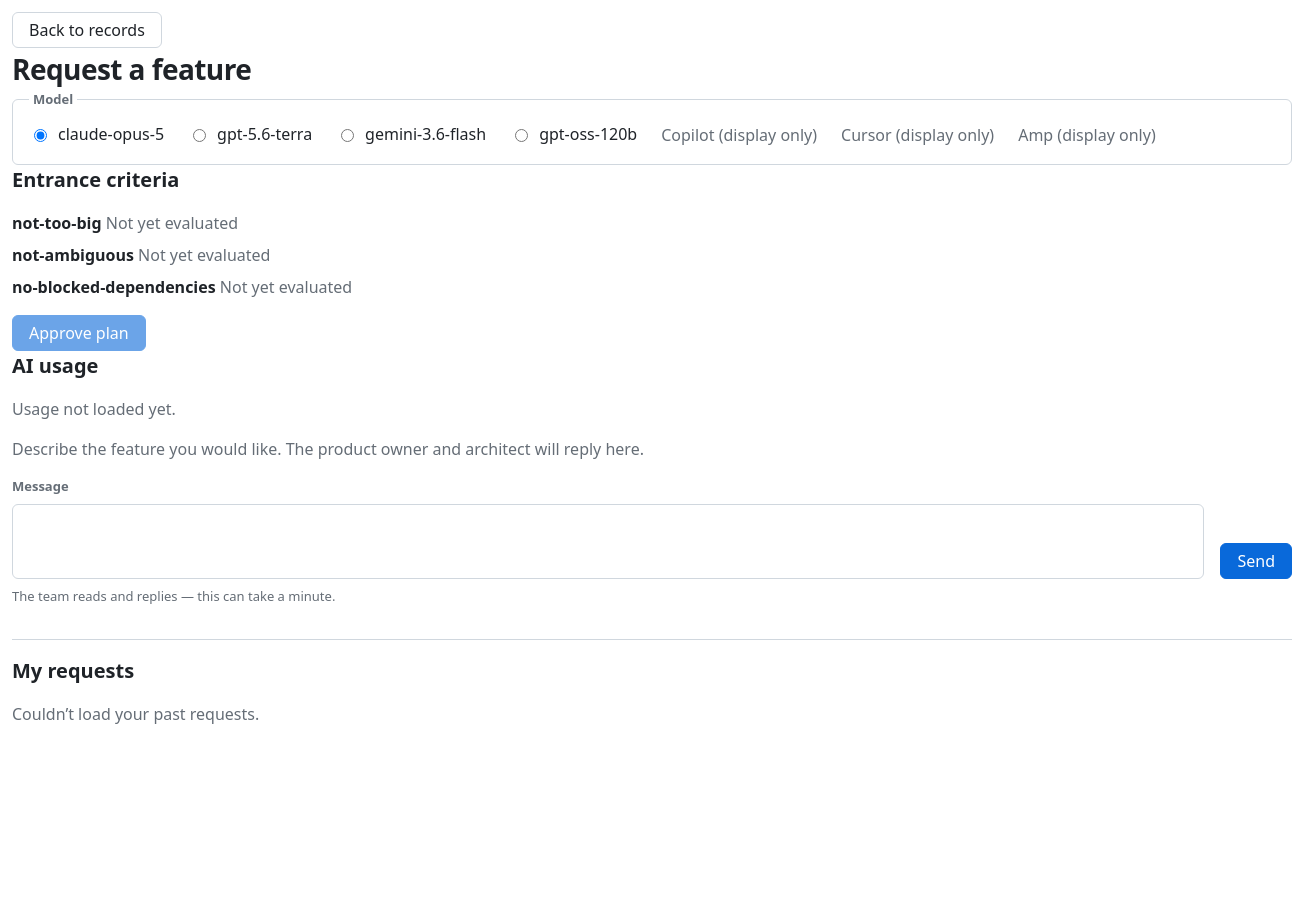
Test case: DAN-54 model picker › locks the whole picker once the session starts
The image size is (1304, 912).
Type "Please add CSV export" into the text box labelled "Message" at (608, 542), box [12,504,1204,579]
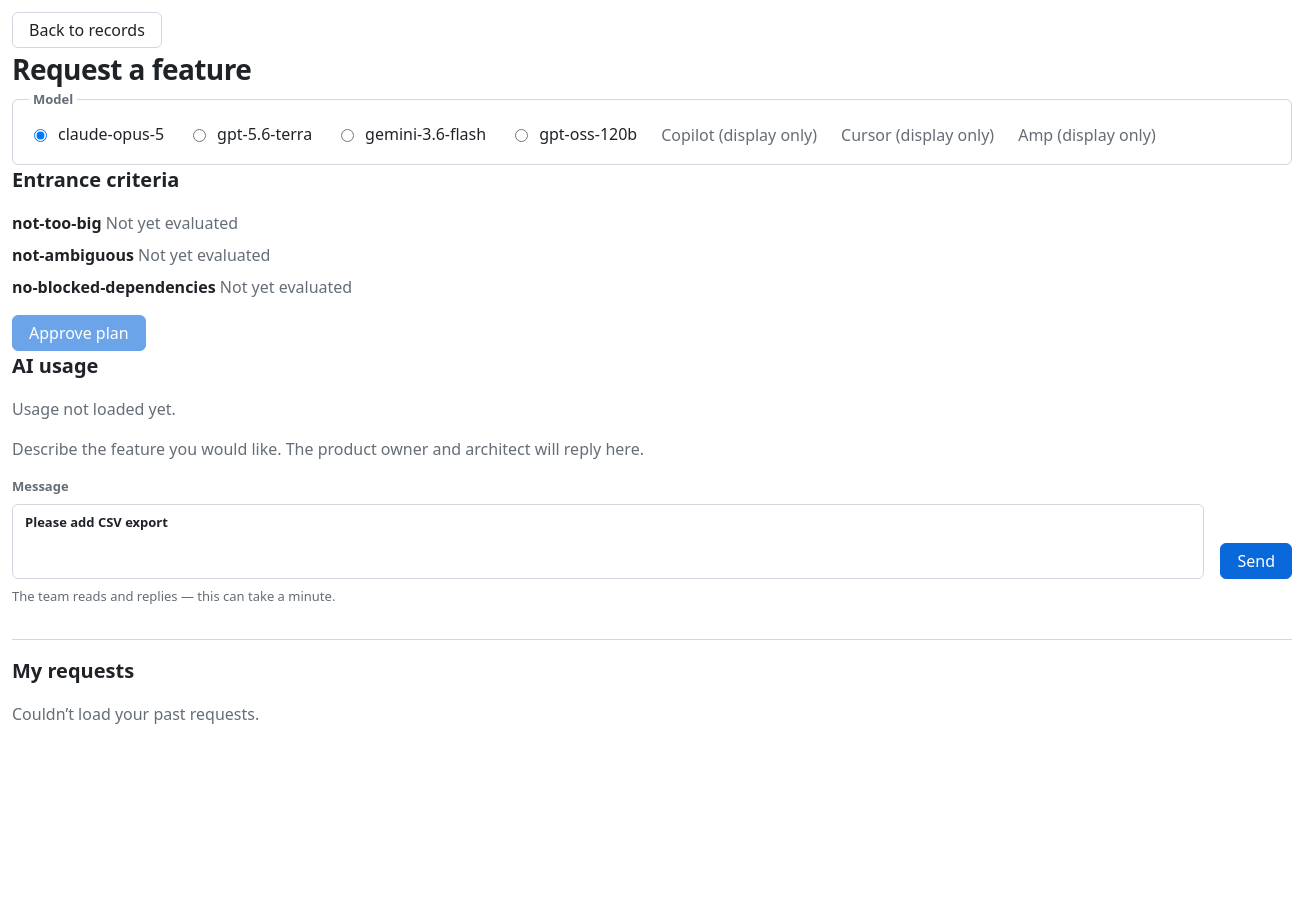
Click the button "Send" at (1256, 561), box [1220,543,1292,579]
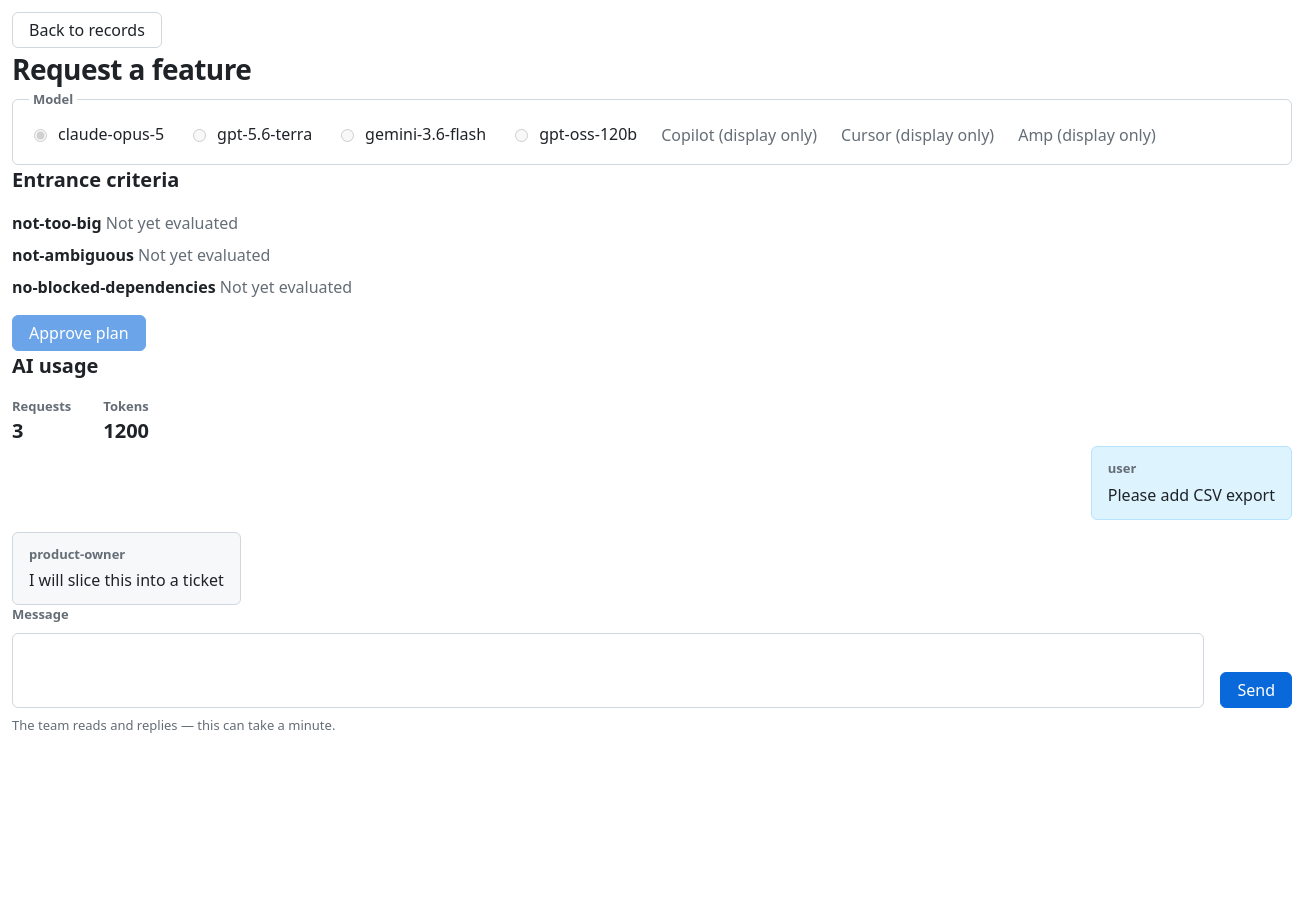
Expected: the radio button labelled "claude-opus-5" is disabled, [34,128,47,142]
Now the list named "Conversation" is shown, box [12,446,1292,605]
